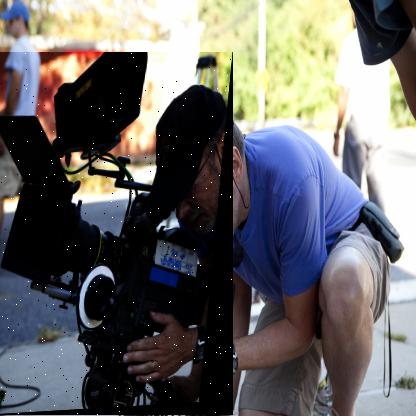Camera: (1, 53, 235, 416)
